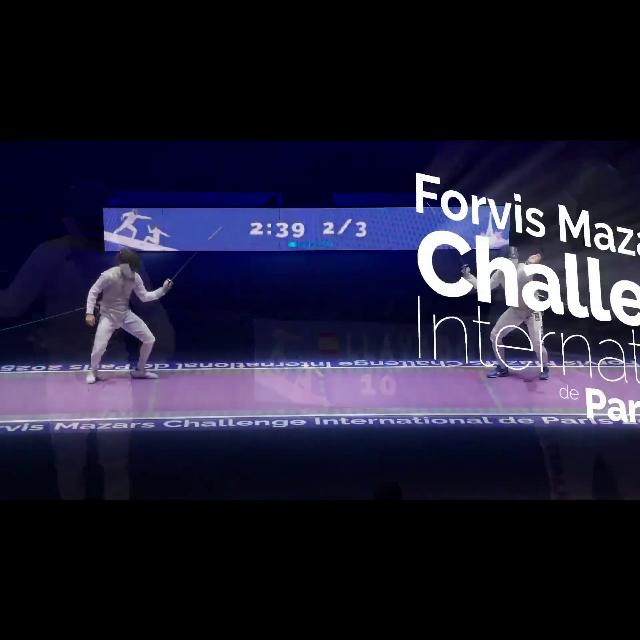blade: (160, 227, 224, 290)
